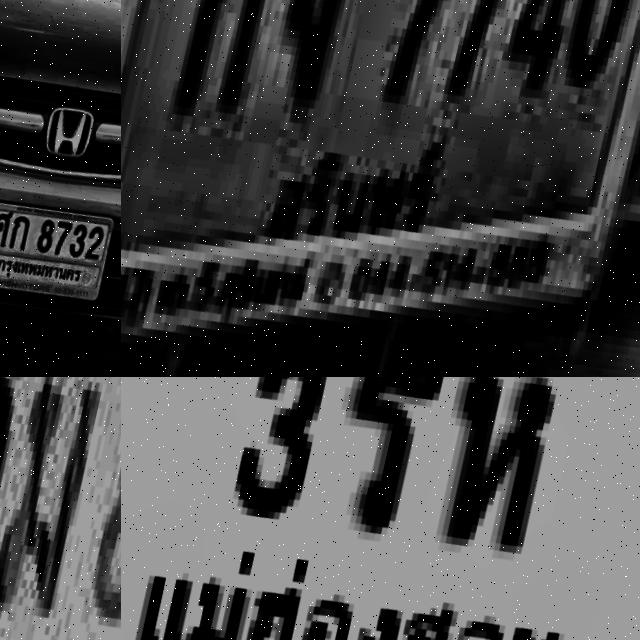license-plate: (121, 0, 640, 377), (121, 377, 640, 640), (0, 377, 121, 640), (0, 194, 113, 314)
